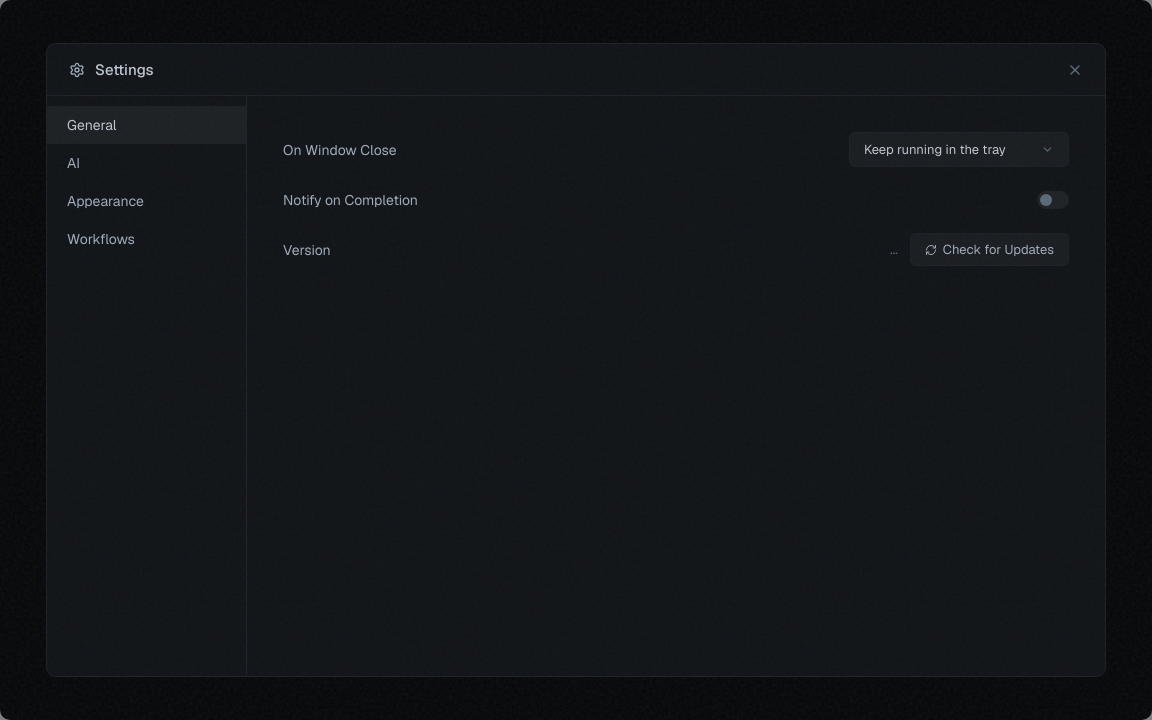
Scenario: SettingsOverlay model selector › falls back to the static lineup when availableModels is empty
What coordinates should you click on to do the following:
click the text "AI"
I would click on:
 (74, 163)
Its box is [67,154,80,172].
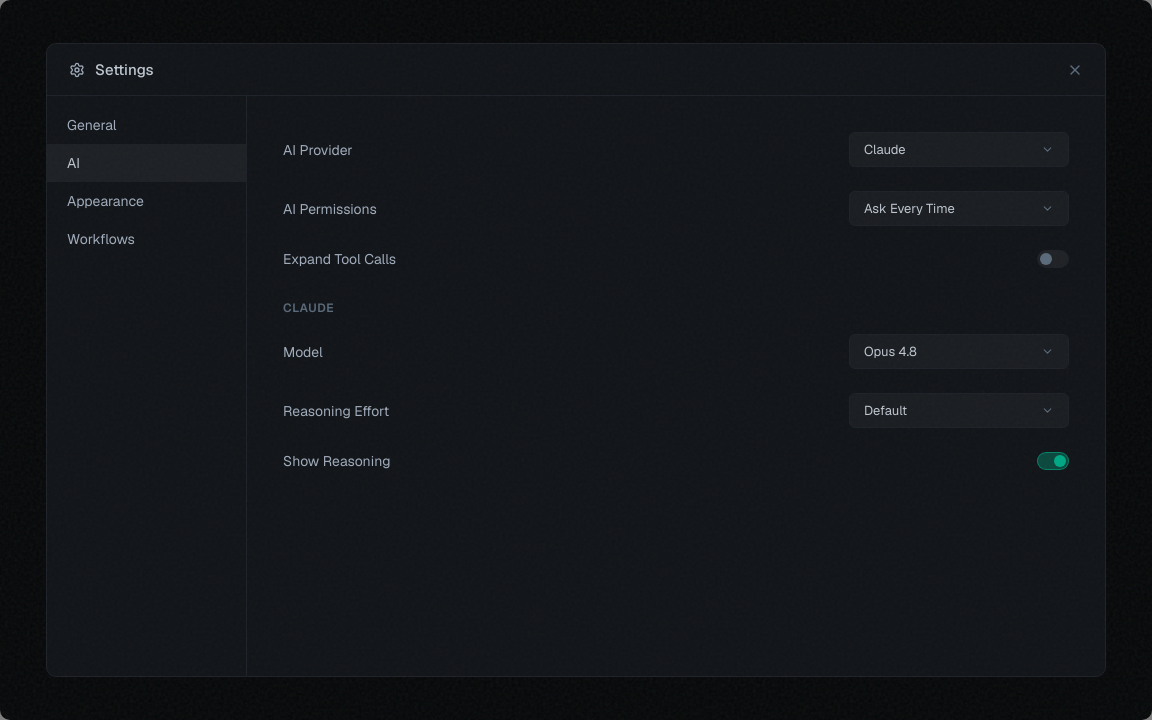
Expected: the text "Opus 4.8" is shown, [864,343,917,360]
